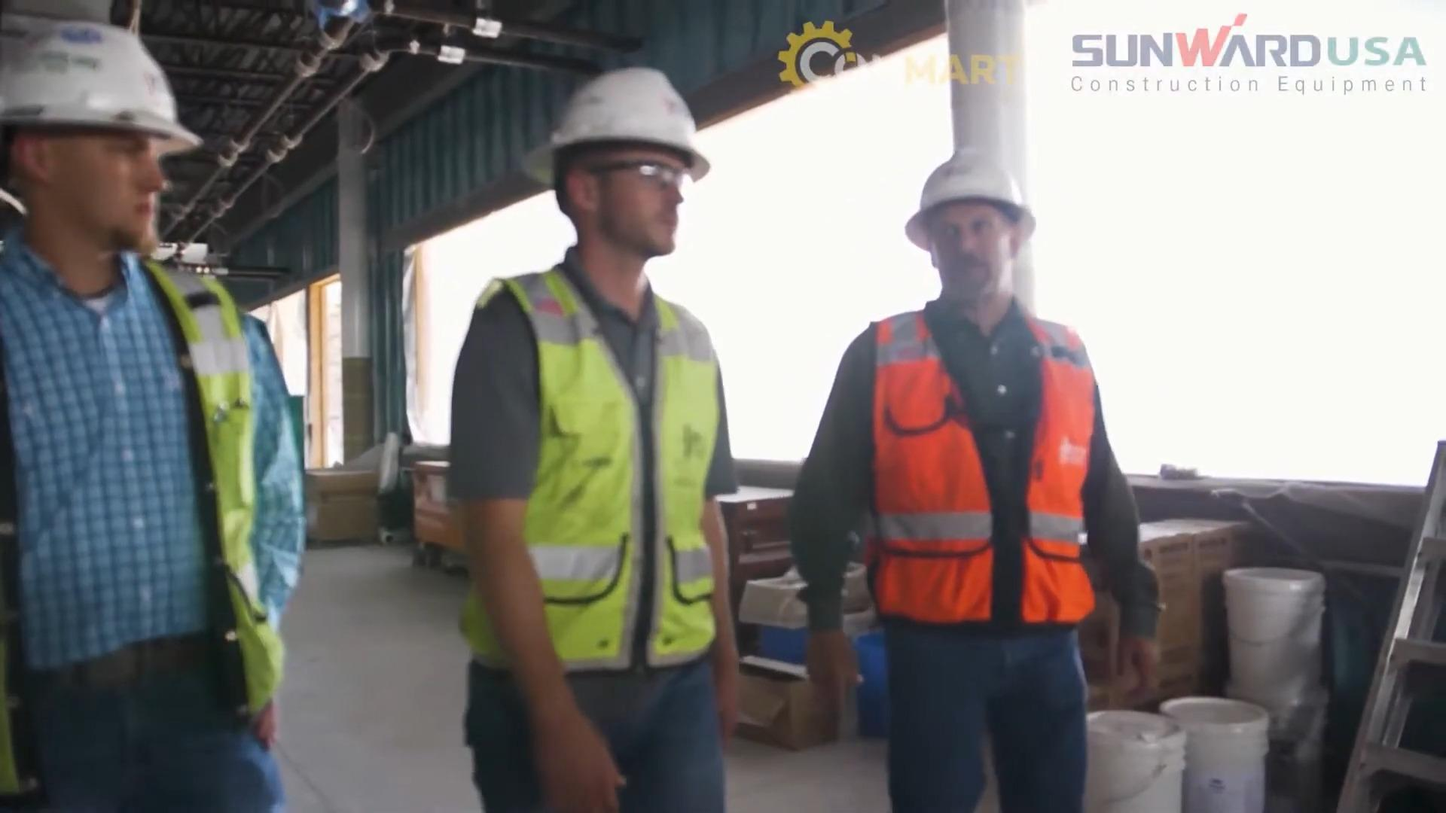Helmet: (0, 35, 201, 159), (542, 68, 700, 174), (905, 146, 1036, 251)
Person: (410, 61, 755, 811), (0, 29, 328, 813), (786, 146, 1164, 811)
Safety Vest: (0, 254, 288, 692), (879, 351, 1119, 618)
bare-arms: (517, 717, 633, 813), (792, 624, 871, 708), (1114, 616, 1180, 701)
